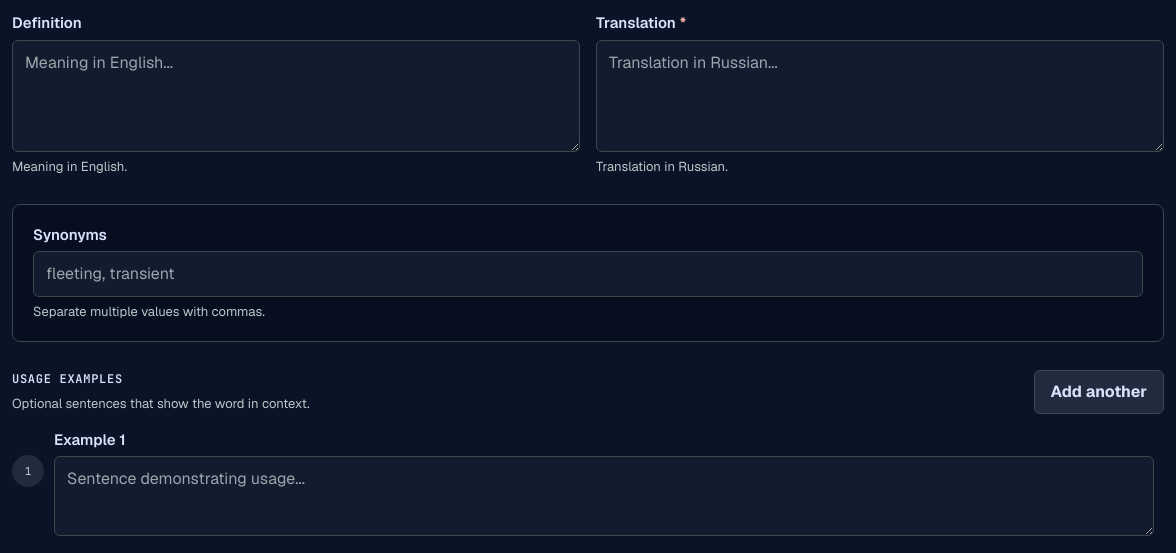
Test: AddCardForm › adds and removes optional example fields
Step 1. Click the button "Add another" → (1099, 392), box 1034,370 -> 1164,414
(page scrolled)
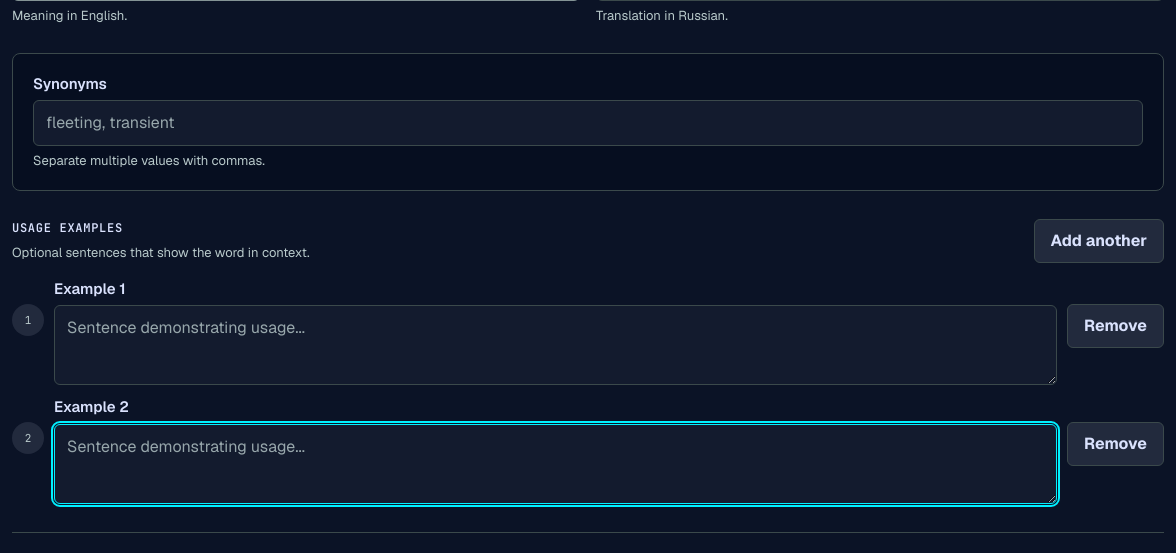
Expected: the text box labelled "Example 2" is shown, 54,424 -> 1057,504
Step 2. Click the button with aria-label "Remove example 2" → (1116, 444), box 1067,422 -> 1164,466
(page scrolled)
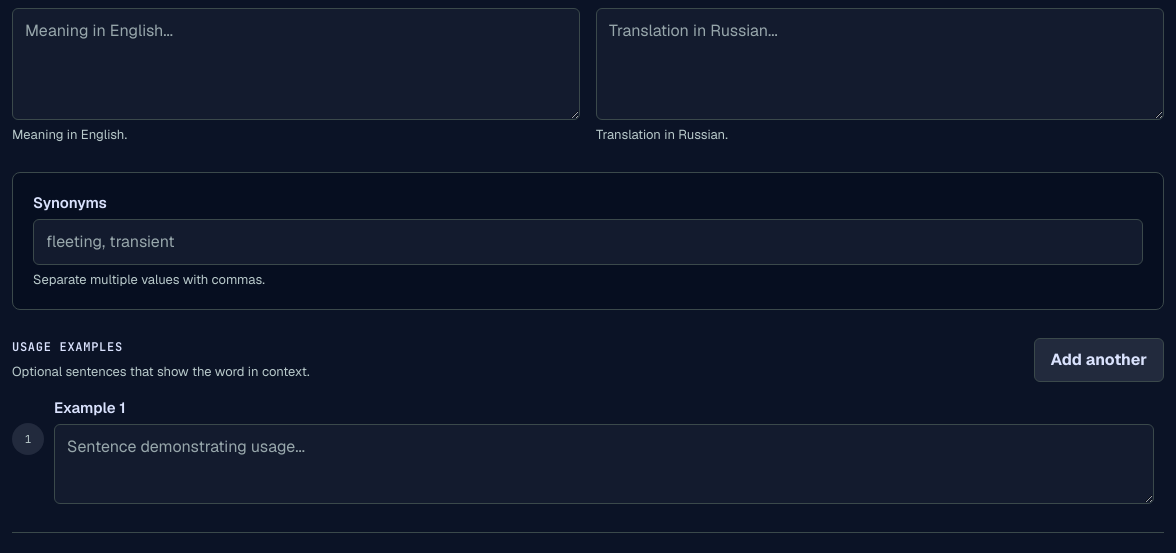
Expected: the label "Example 2" is gone
